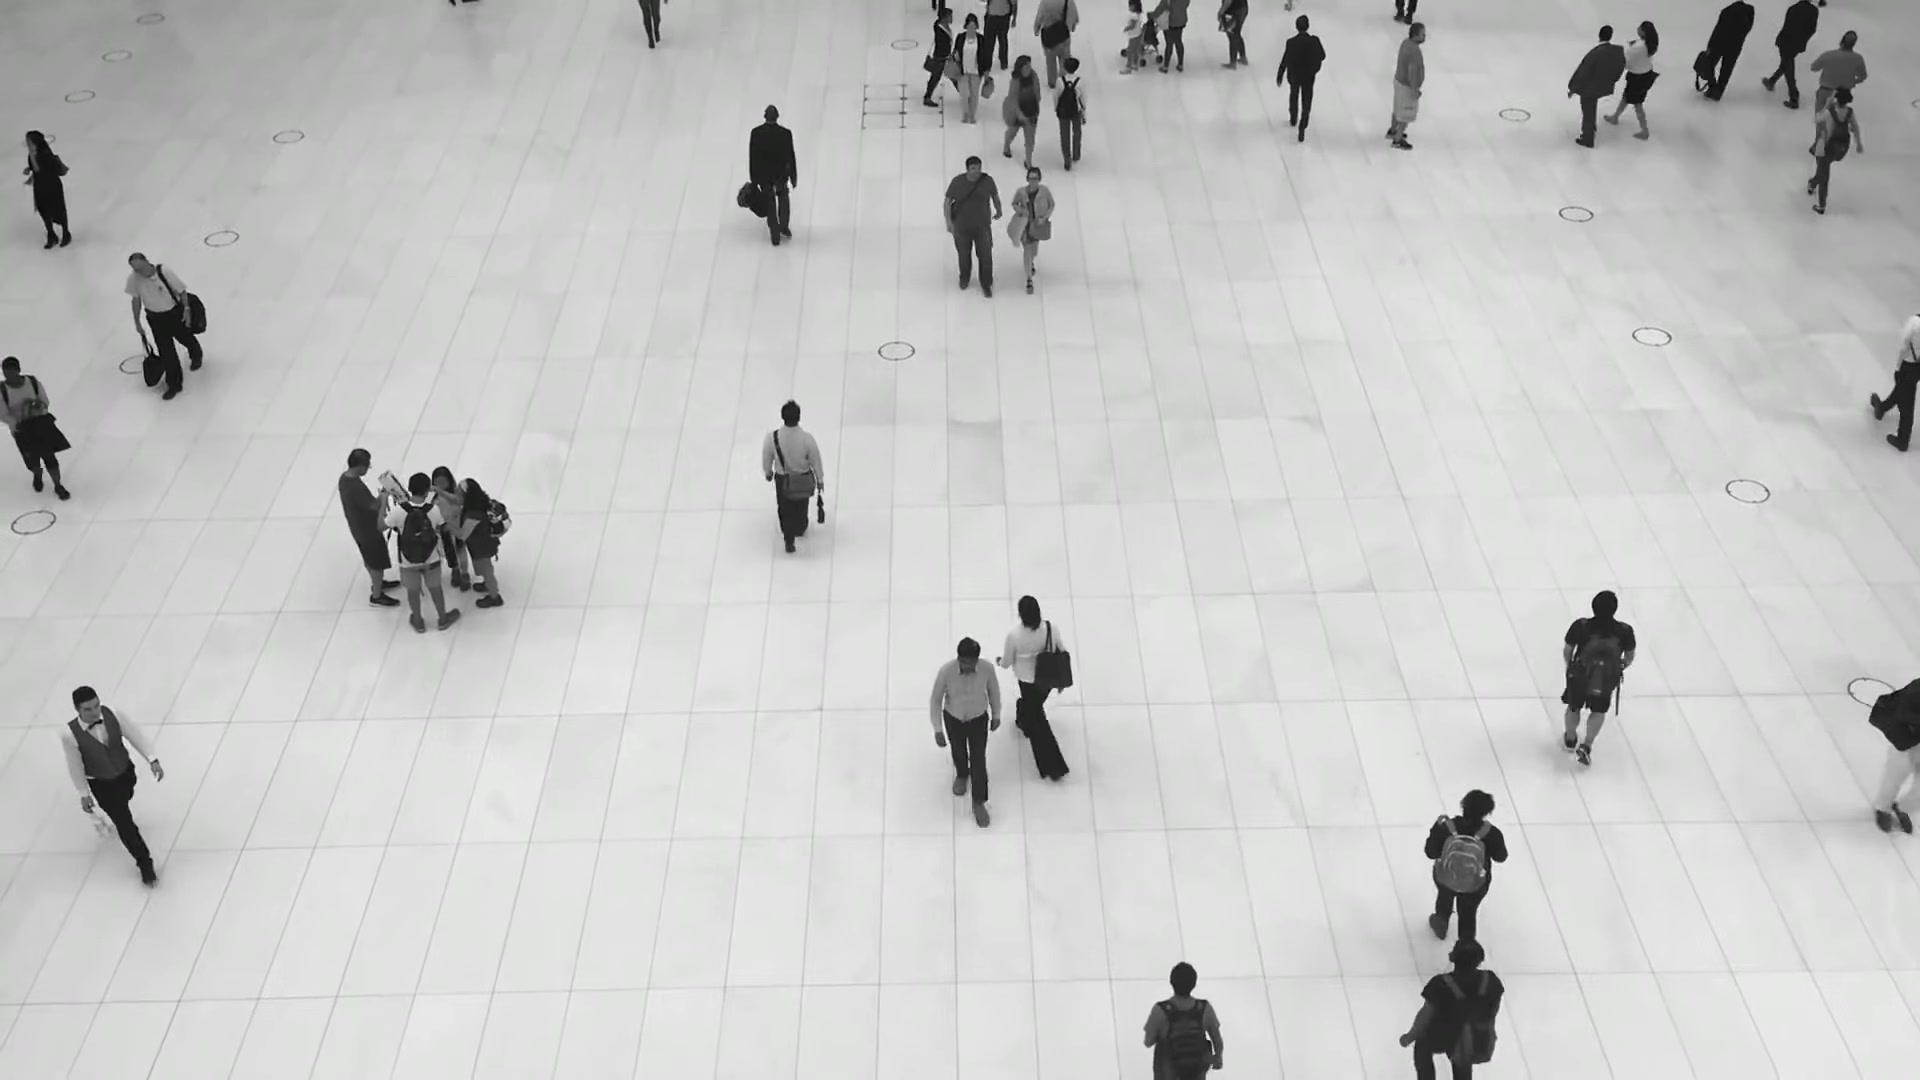person: (59, 684, 160, 875), (1394, 938, 1500, 1080), (1559, 595, 1638, 784), (1424, 790, 1512, 951), (929, 635, 1004, 822), (379, 475, 459, 633), (997, 591, 1064, 763), (123, 249, 200, 395), (337, 448, 403, 609), (760, 401, 825, 562), (0, 358, 69, 512), (937, 156, 1004, 299), (1144, 966, 1222, 1080), (1802, 88, 1869, 218), (747, 108, 799, 254), (1560, 28, 1622, 151), (454, 477, 506, 609), (1277, 15, 1327, 142), (22, 130, 73, 252), (1701, 0, 1754, 108), (1384, 22, 1427, 153), (425, 467, 469, 590), (1009, 164, 1054, 286), (1768, 0, 1820, 105), (1807, 29, 1867, 115), (1615, 19, 1659, 136), (1000, 53, 1040, 168), (1050, 58, 1089, 174), (950, 15, 988, 131), (1033, 0, 1081, 89), (922, 8, 954, 109), (1118, 0, 1143, 76)
